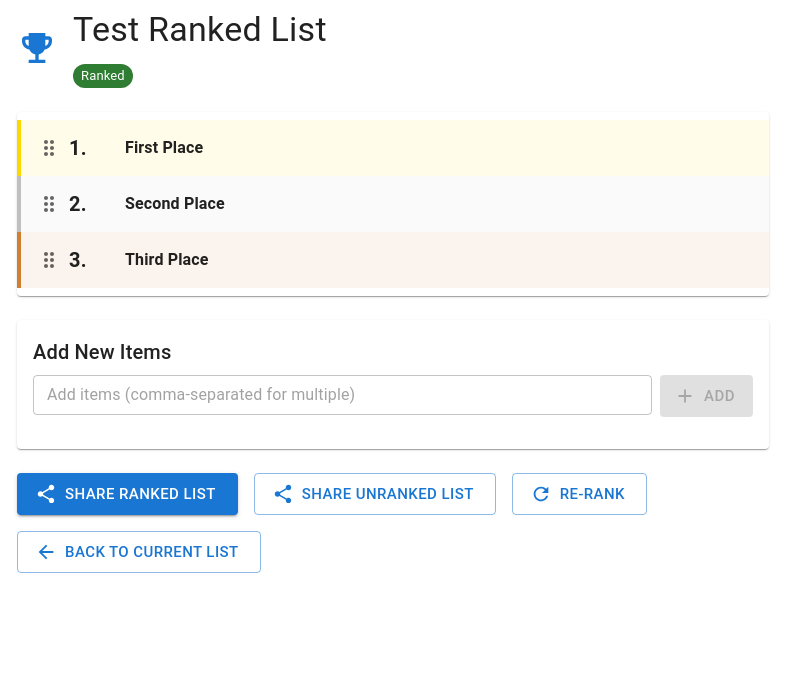
it: RankedResultView › Integration Scenarios › adds multiple unranked items and shows correct count
This screenshot has width=787, height=688.
In the field with placeholder "Add items (comma-separated for multiple)": (343, 395) top-left (33, 375), bottom-right (652, 415), type "Item A"
Then press Enter
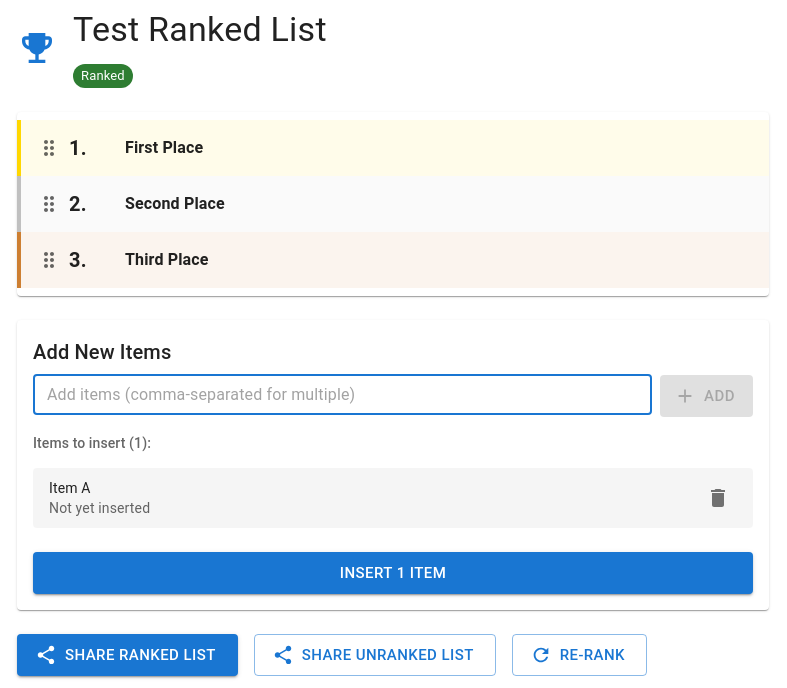
In the field with placeholder "Add items (comma-separated for multiple)": (343, 395) top-left (33, 375), bottom-right (652, 415), type "Item B"
Then press Enter
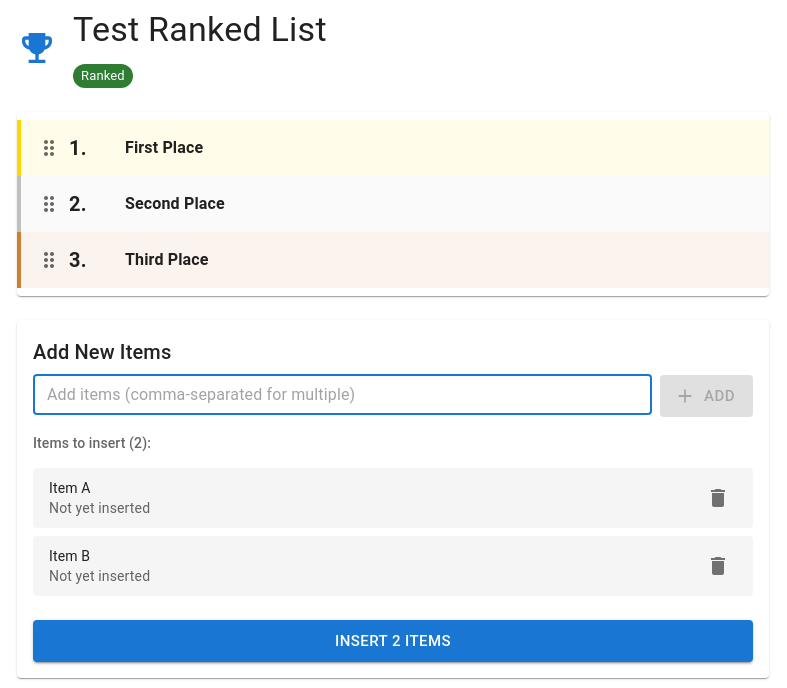
In the field with placeholder "Add items (comma-separated for multiple)": (343, 395) top-left (33, 375), bottom-right (652, 415), type "Item C"
Then press Enter
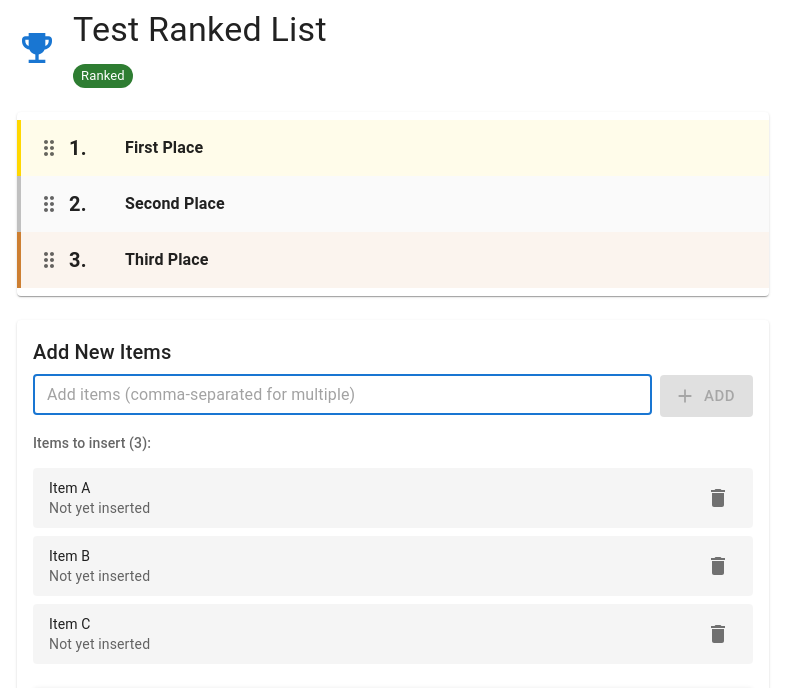
Now the text "Item A" is shown, box top-left (49, 480), bottom-right (91, 496)
Now the text "Item B" is shown, box top-left (49, 548), bottom-right (90, 564)
Now the heading "Items to insert (3):" is shown, box top-left (33, 435), bottom-right (151, 451)
